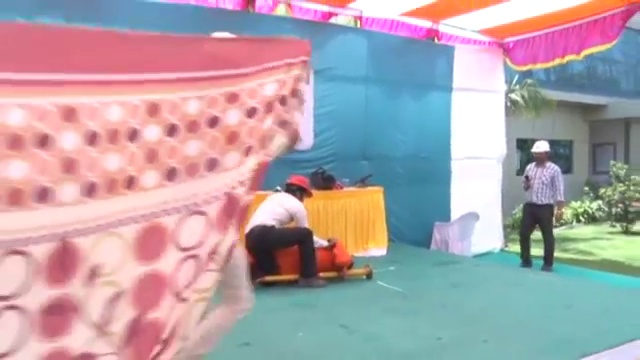helmet: (284, 173, 314, 197), (530, 139, 552, 155)
helmet_on: (280, 173, 313, 204), (529, 138, 552, 167)
person: (244, 171, 326, 292), (520, 139, 564, 276)
